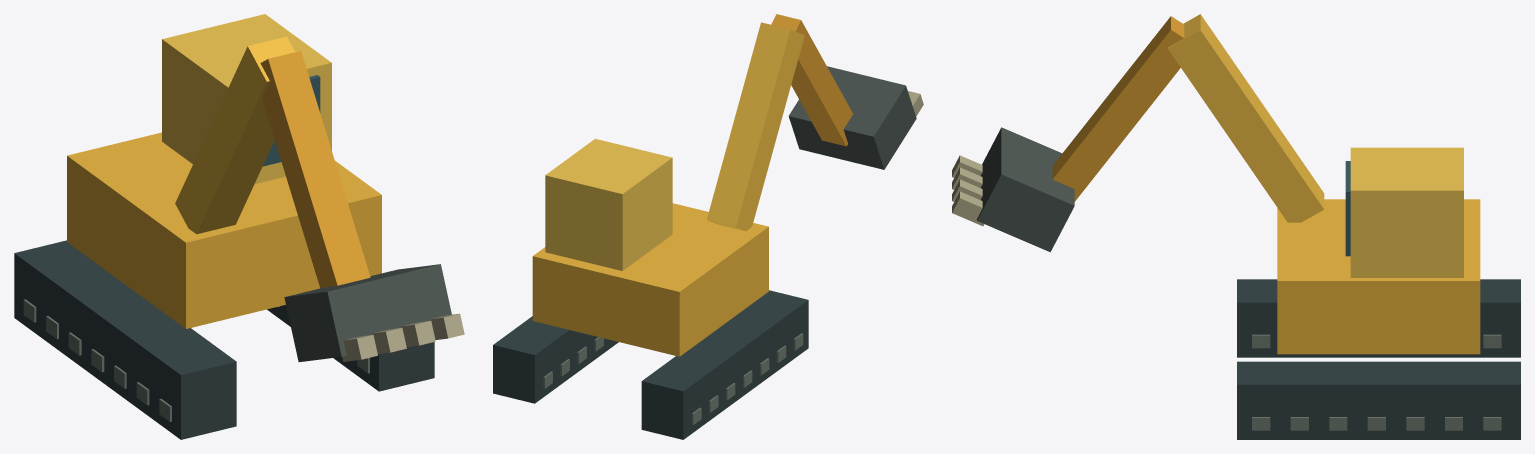
The model's file is excavator.glb.
3 renders of one model, left to right at view 1: azimuth 30°, elevation 25°; view 2: azimuth 150°, elevation 25°; view 3: azimuth 270°, elevation 25°, orthographic. The views are drawn at different scales.
Parts seen in each view (by area): view 1: upper, excavator, stick, boom, bucket, bucket_afaa8a, excavator_6d7970; view 2: upper, excavator, boom, bucket, stick, excavator_6d7970; view 3: upper, excavator, boom, bucket, stick, excavator_6d7970, bucket_afaa8a.
Boxes of the visible parts, x1,y1,x2,y2 form: upper: (67, 14, 381, 328); excavator: (14, 240, 434, 439); stick: (260, 51, 370, 288); boom: (175, 36, 294, 234); bucket: (284, 264, 451, 362); bucket_afaa8a: (342, 313, 464, 361); excavator_6d7970: (23, 299, 369, 421); upper: (532, 138, 768, 356); excavator: (493, 290, 808, 439); boom: (706, 22, 804, 231); bucket: (788, 66, 916, 169); stick: (771, 14, 852, 146); excavator_6d7970: (543, 333, 803, 425); upper: (1277, 147, 1480, 354); excavator: (1237, 279, 1520, 439); boom: (1168, 14, 1324, 222); bucket: (977, 127, 1074, 252); stick: (1052, 16, 1184, 201); excavator_6d7970: (1252, 334, 1501, 430); bucket_afaa8a: (952, 155, 984, 226).
Bounding box in the file's own units: 1.25 × 1.85 × 2.8.
